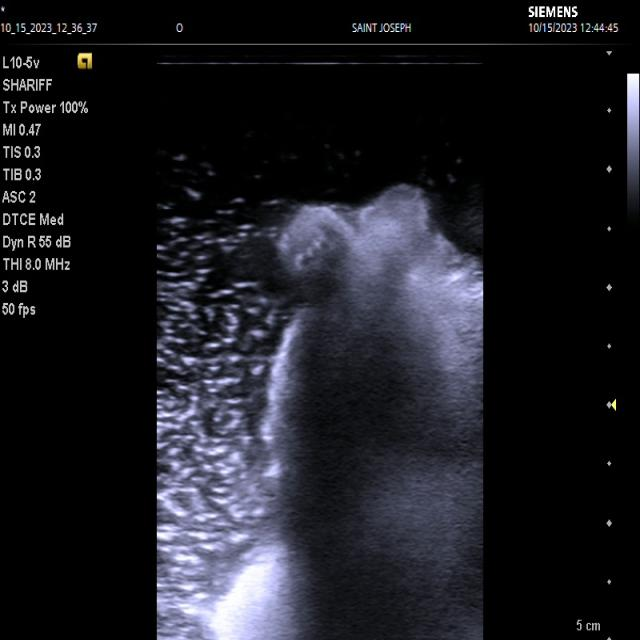tissue: (214, 186, 482, 640)
